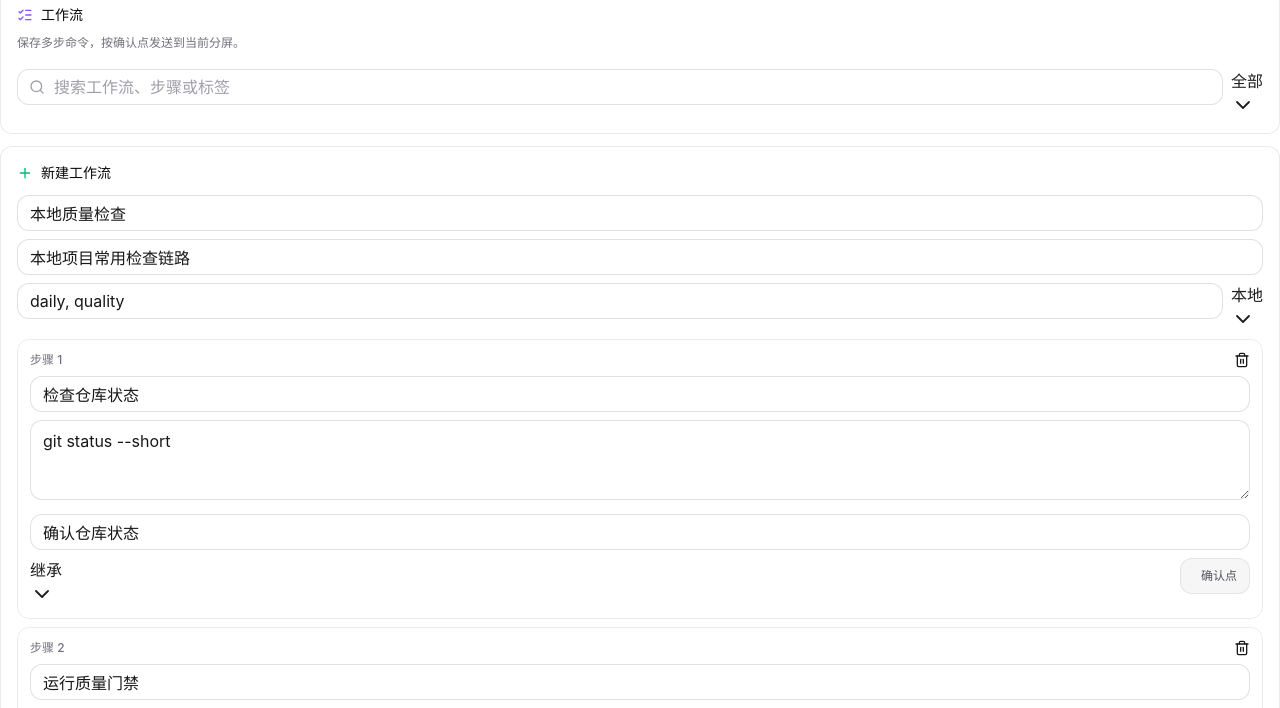
Scenario: WorkflowToolContent › distinguishes filtered empty results from an empty workflow library
Type "deploy" into the field labelled "搜索工作流" at x=620, y=87, box [17, 69, 1223, 105]
(page scrolled)
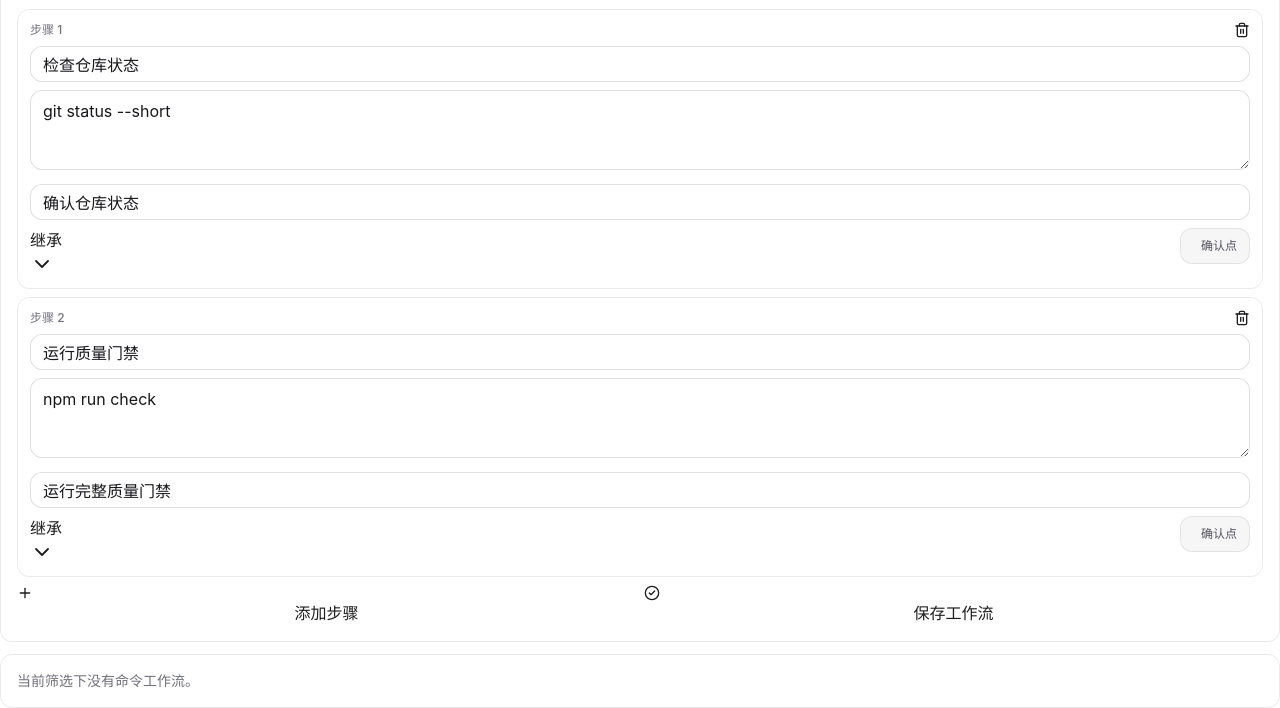
Expected: the text "当前筛选下没有命令工作流。" is shown, [0, 654, 1279, 707]
